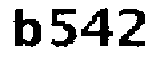2: (114, 5, 151, 56)
4: (81, 5, 115, 50)
5: (47, 7, 79, 49)
b: (8, 6, 43, 52)
